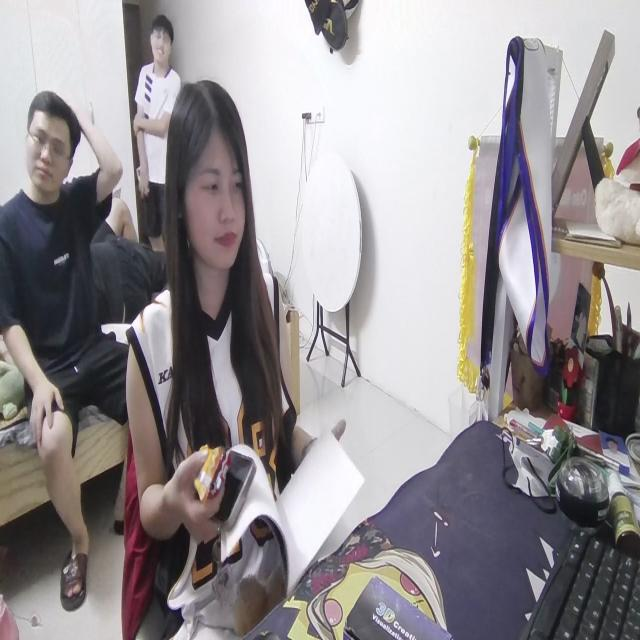book: (218, 429, 355, 584)
extra_person: (0, 79, 135, 604), (131, 11, 180, 243)
phone: (218, 447, 255, 522)
student: (126, 73, 351, 619)
